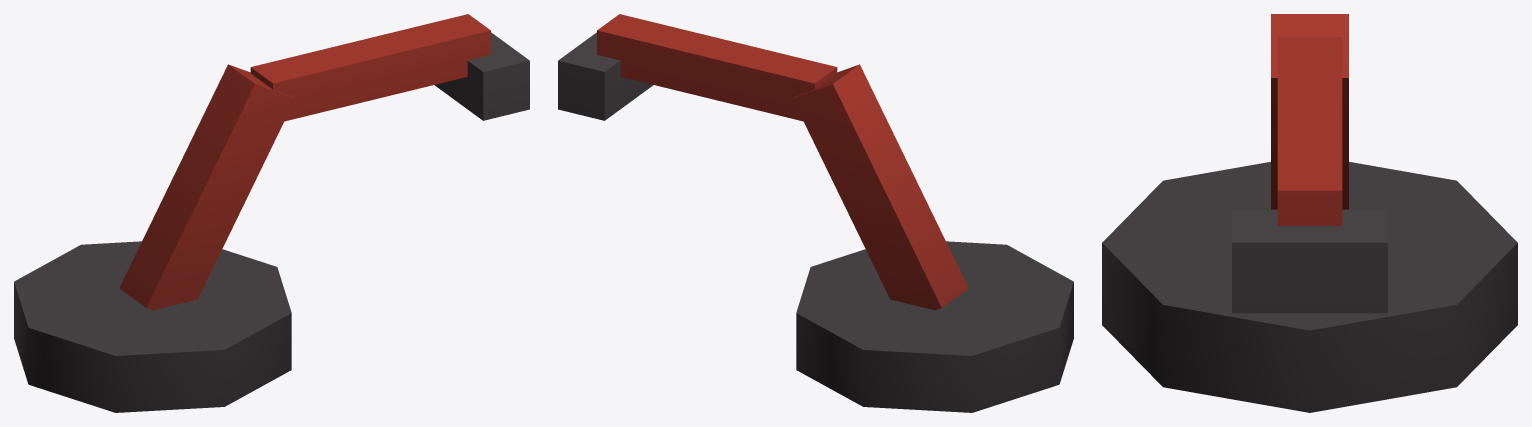
The model's file is long-handed-inserter.glb.
The picture shows the model from 3 angles, left to right: view 1: azimuth 30°, elevation 25°; view 2: azimuth 150°, elevation 25°; view 3: azimuth 270°, elevation 25°; orthographic projection. The views are drawn at different scales.
Parts seen in each view (by area): view 1: long-handed-inserter; view 2: long-handed-inserter; view 3: long-handed-inserter.
Part boxes in pixels (left/top/right/bottom): long-handed-inserter: left=14, top=14, right=529, bottom=412; long-handed-inserter: left=558, top=14, right=1073, bottom=412; long-handed-inserter: left=1102, top=14, right=1517, bottom=412.
Size of the model in its own units: 0.305 by 0.1587 by 0.16.
